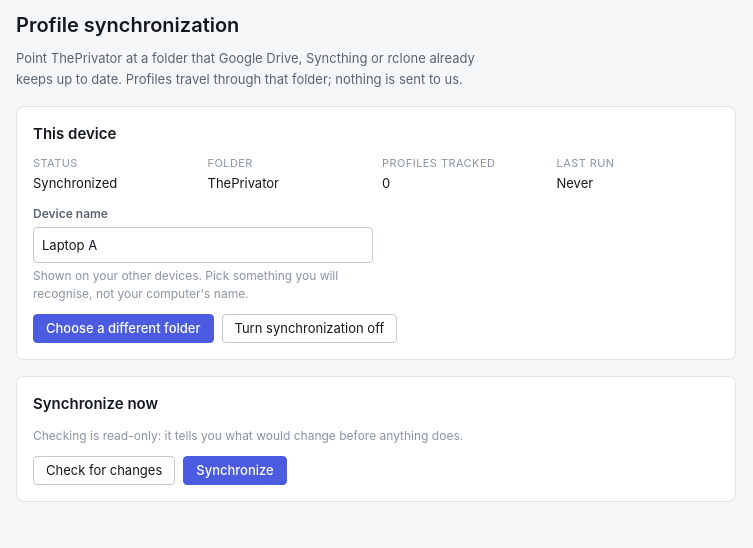
Test: SyncSettings › says so when a check finds nothing to do
Step 1. Click the button "Check for changes" → (104, 470), box [33,456,175,485]
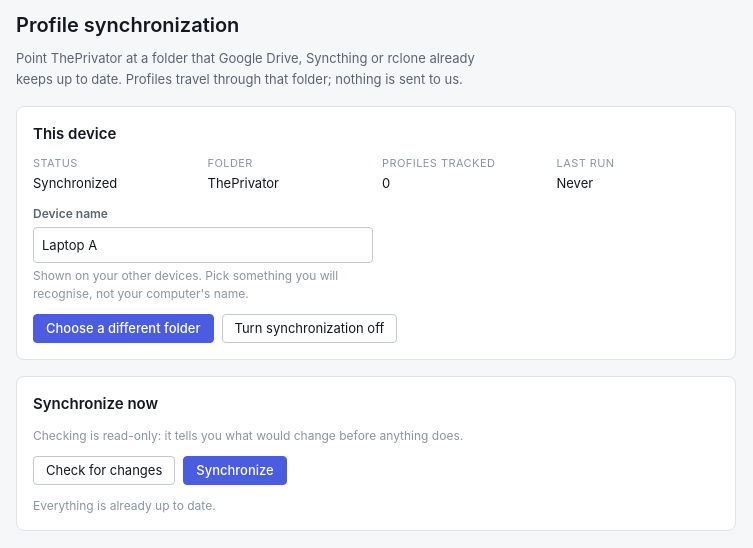
Check: the text "Everything is already up to date." is shown, box [33,498,216,513]
